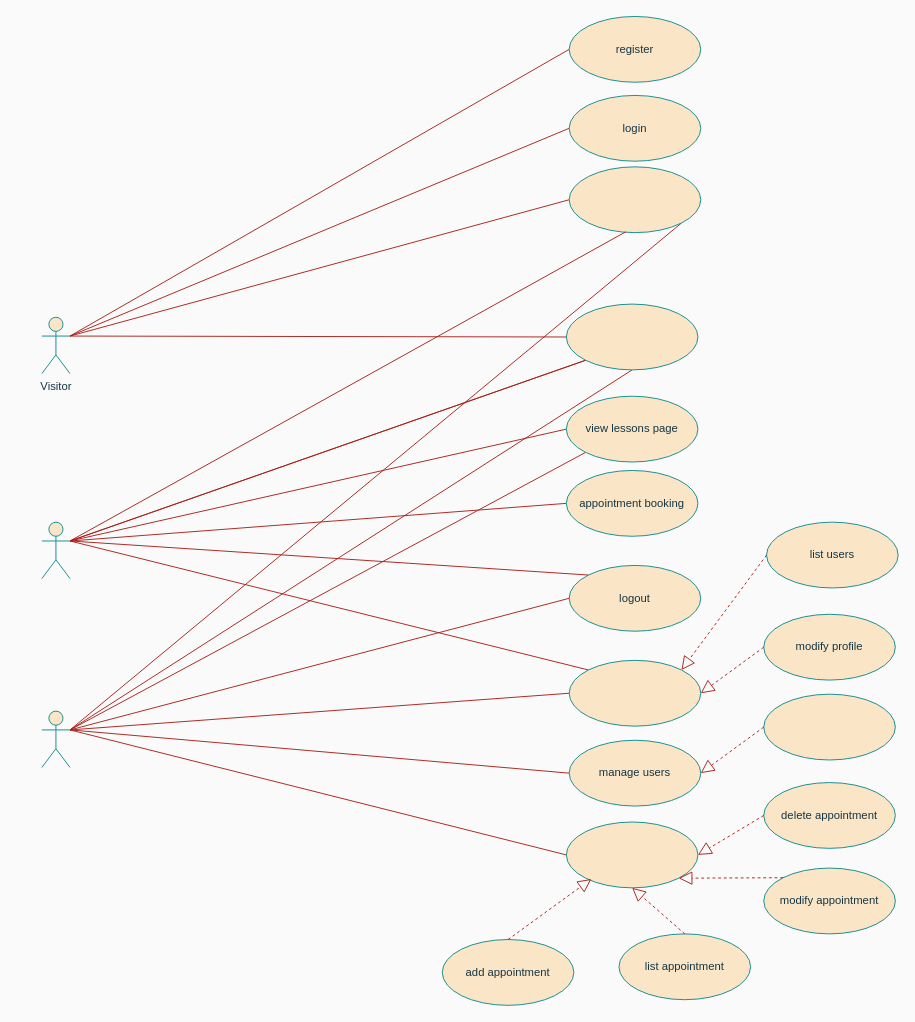
Some shapes in this 915 by 1022 pixel diagram are drawn without their labels. The centre of each missing label's shape, as x and y in pixels:
"Admin user" goes at point 55,739.
"delete user" goes at point 829,726.
"manage appointment bookings" goes at point 631,854.
"Registered user" goes at point 55,550.
"view introductory page" goes at point 634,199.
"view profile page" goes at point 634,692.
"view surveys page" goes at point 631,336.
